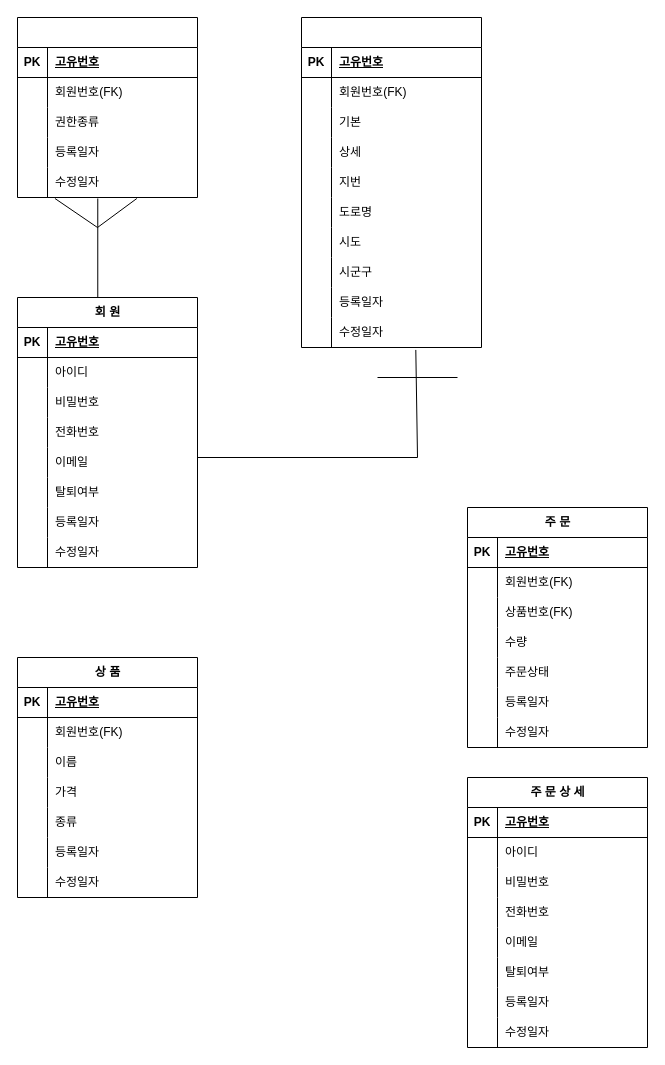
This 665x1065 diagram has some shape labels left out. The shapes that lost their labels are listed below. From the top down, each one's box as (x1, y1, x2, y2) in pixels, then its label:
(16, 16, 198, 198): 권 한
(300, 16, 482, 348): 주 소
